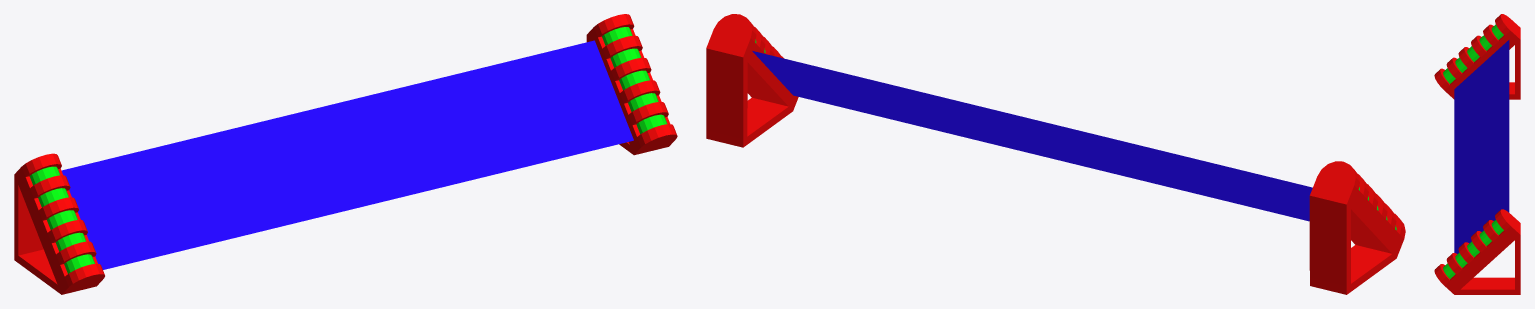
The model's file is SM_ModeTitleScreen.FBX.
3 views of the same model, side by side, from view 1: azimuth 30°, elevation 25°; view 2: azimuth 150°, elevation 25°; view 3: azimuth 270°, elevation 25° (orthographic). The views are drawn at different scales.
Visible parts, largest first — view 1: Screen, LeftPart, RightPart; view 2: Screen, LeftPart, RightPart; view 3: Screen, RightPart, LeftPart.
Boxes of the visible parts, x1,y1,x2,y2 form: Screen: (61,40,633,269); LeftPart: (14,153,104,294); RightPart: (586,14,677,155); Screen: (752,51,1312,221); LeftPart: (1309,161,1405,294); RightPart: (706,14,798,147); Screen: (1454,40,1509,253); RightPart: (1434,209,1520,294); LeftPart: (1434,14,1520,99).
Bounding box in the file's own units: 126 × 22.18 × 22.18.
